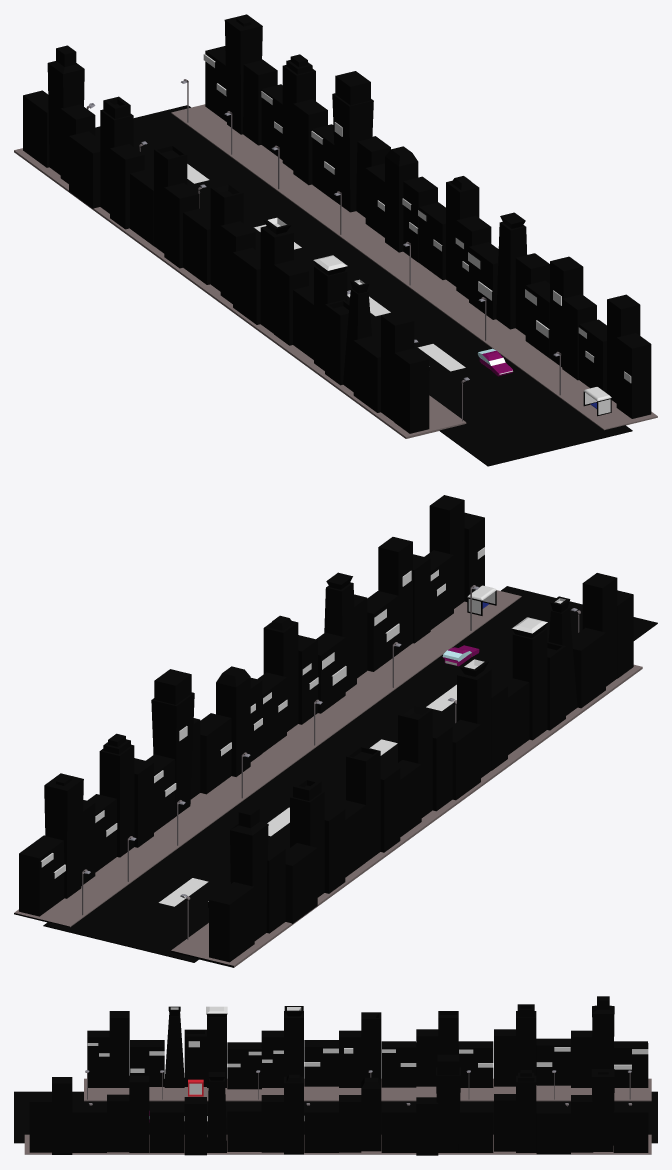
Rendered from city (1).fbx.
The picture shows the model from 3 angles, top to bottom: view 1: azimuth 30°, elevation 25°; view 2: azimuth 150°, elevation 25°; view 3: azimuth 270°, elevation 25°; orthographic projection. The views are drawn at different scales.
Parts seen in each view (by area): view 1: Cube, Cube.013; view 2: Cube, Cube.013; view 3: Cube, Cube.013, Cube.015.
Boxes of the visible parts, x1,y1,x2,y2 form: Cube: [14, 14, 657, 466]; Cube.013: [86, 79, 561, 421]; Cube: [14, 495, 657, 967]; Cube.013: [82, 585, 580, 939]; Cube: [14, 996, 657, 1155]; Cube.013: [85, 1070, 631, 1106]; Cube.015: [188, 1079, 203, 1096].
Size of the model in its own units: 11341 by 6546 by 40626.
